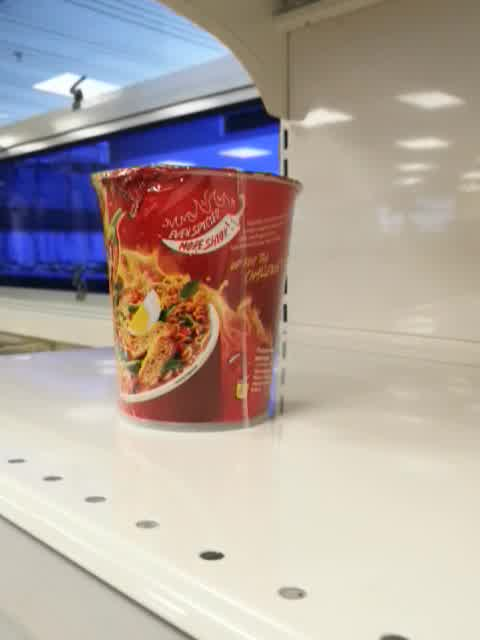maggi: (88, 162, 302, 434)
